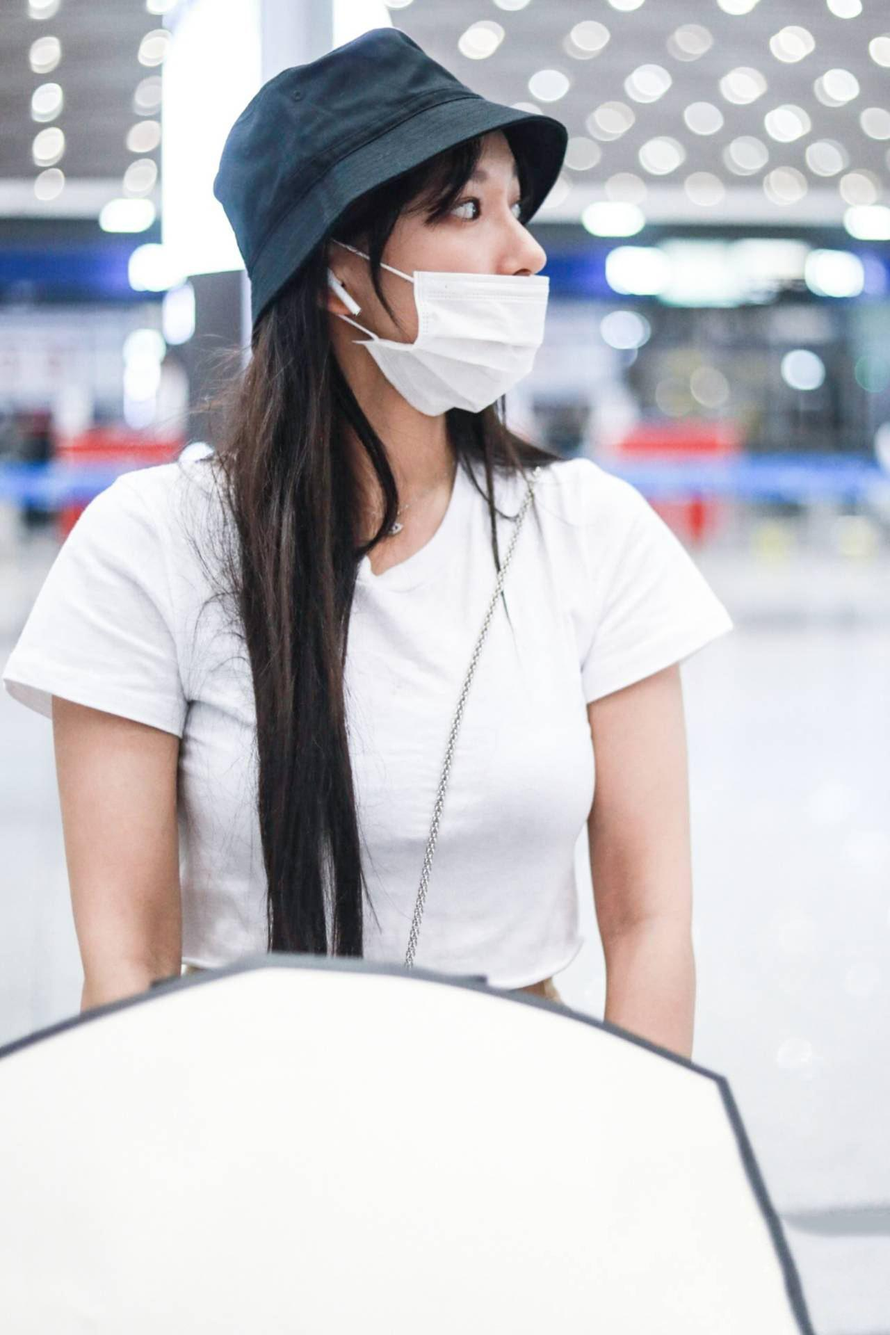WRONG: (379, 144, 548, 416)
